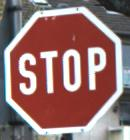Stop sign: (0, 0, 129, 139)
